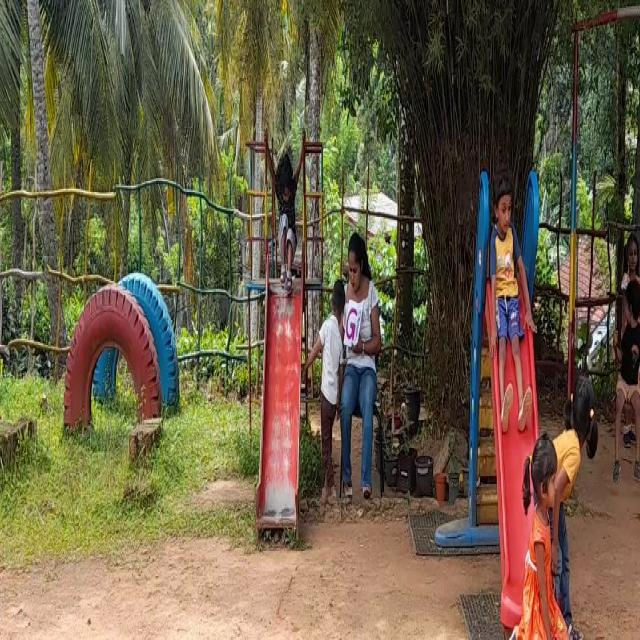adult: (342, 228, 380, 509)
child: (487, 168, 534, 433), (557, 360, 595, 636), (521, 443, 561, 640), (313, 259, 342, 490), (614, 286, 640, 464), (271, 147, 298, 292)
